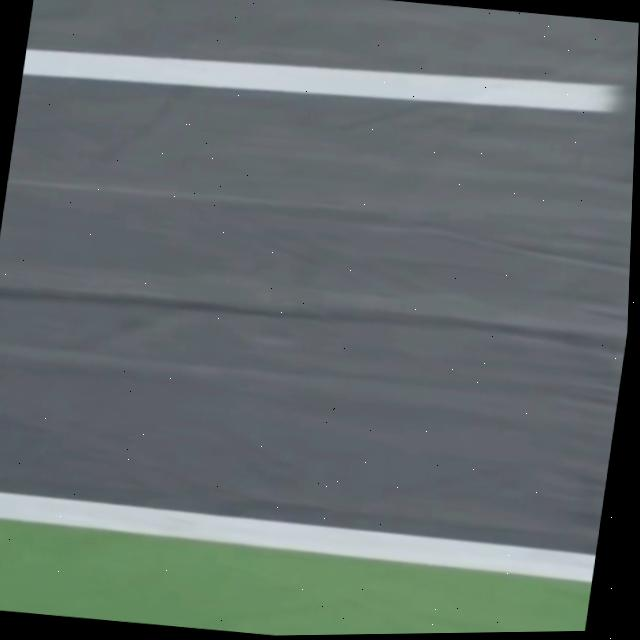center: (21, 48, 620, 112)
right: (0, 491, 595, 581)
